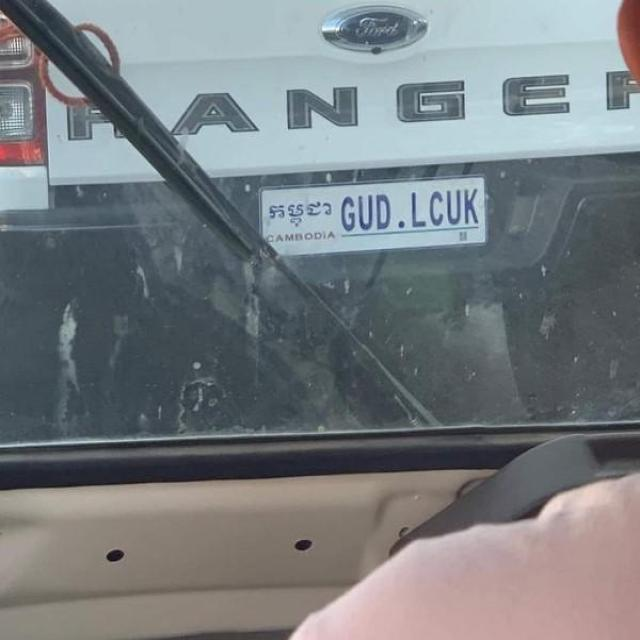Cambodia: (270, 200, 332, 225)
